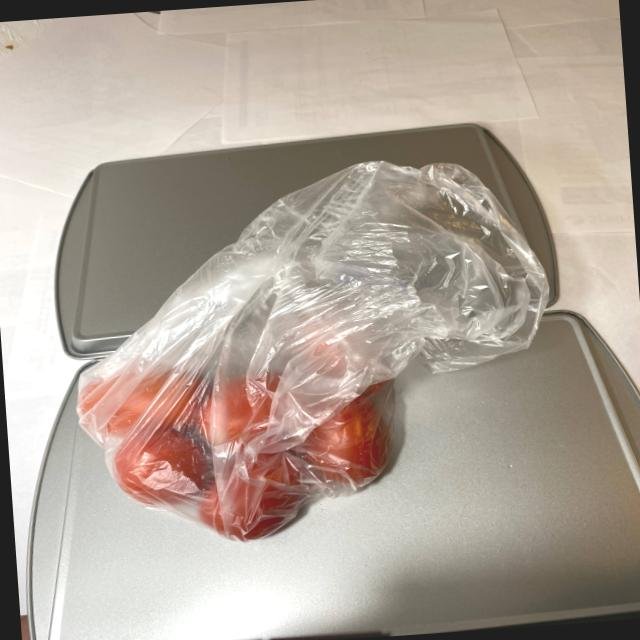tomato: (72, 320, 418, 556)
